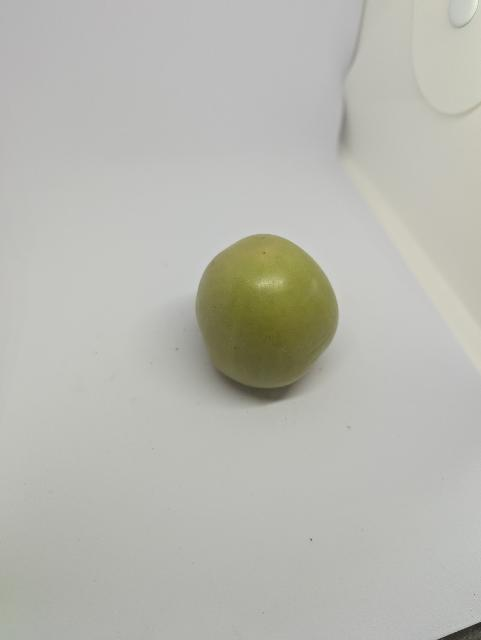green: (186, 213, 355, 404)
